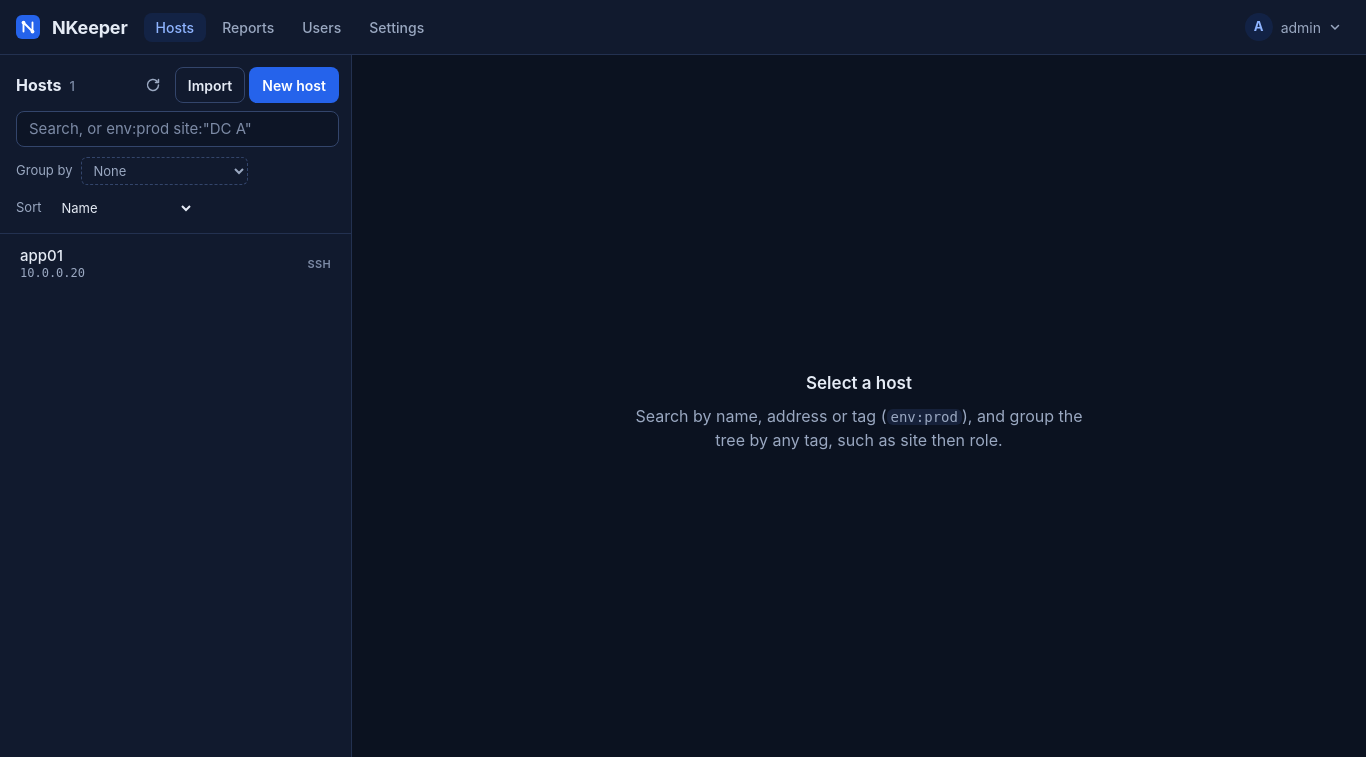
Test case: storage (iSCSI, multipath, DRBD) › discovers targets at a portal and says what it found
The width and height of the screenshot is (1366, 757).
Right-click the button "app01 10.0.0.20 SSH" at (41, 256), box [8, 242, 343, 286]
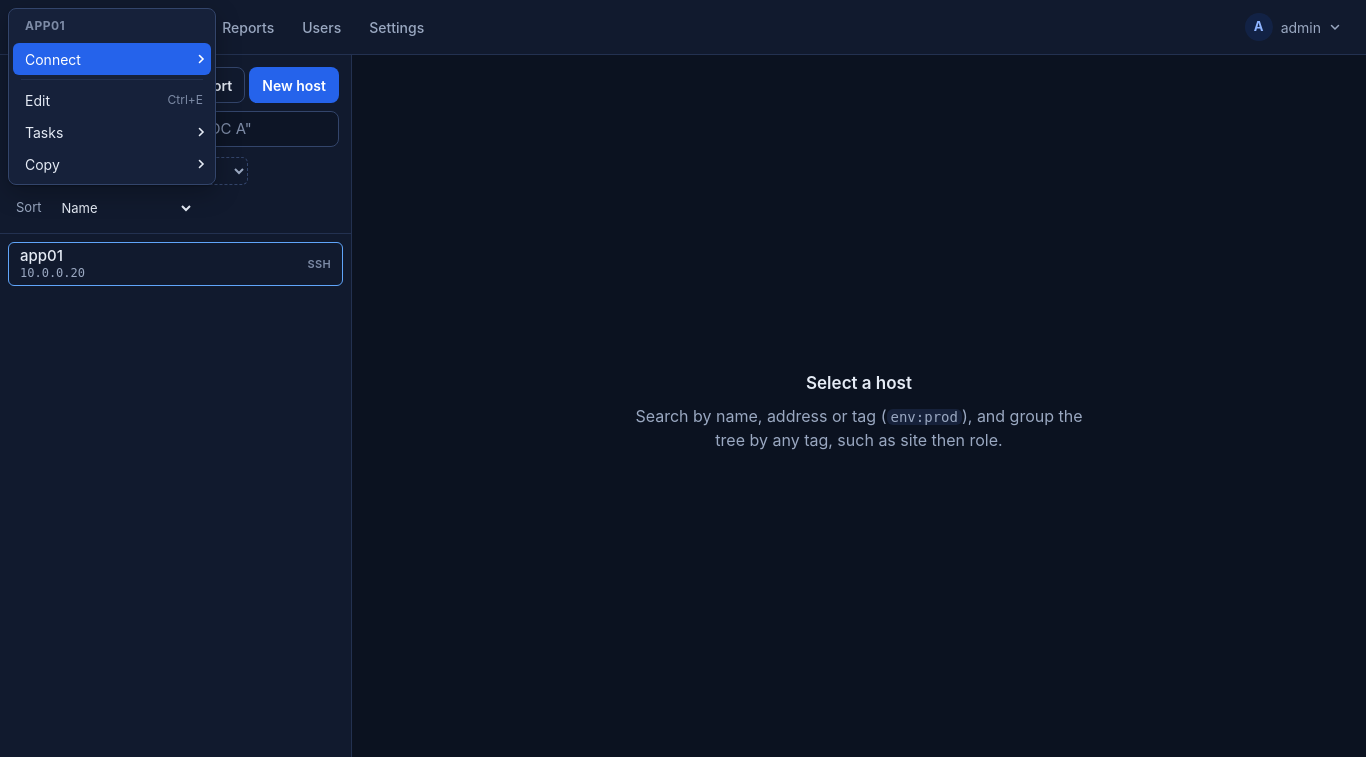
Hover over the menu item "Connect" at (112, 59), box [13, 43, 211, 75]
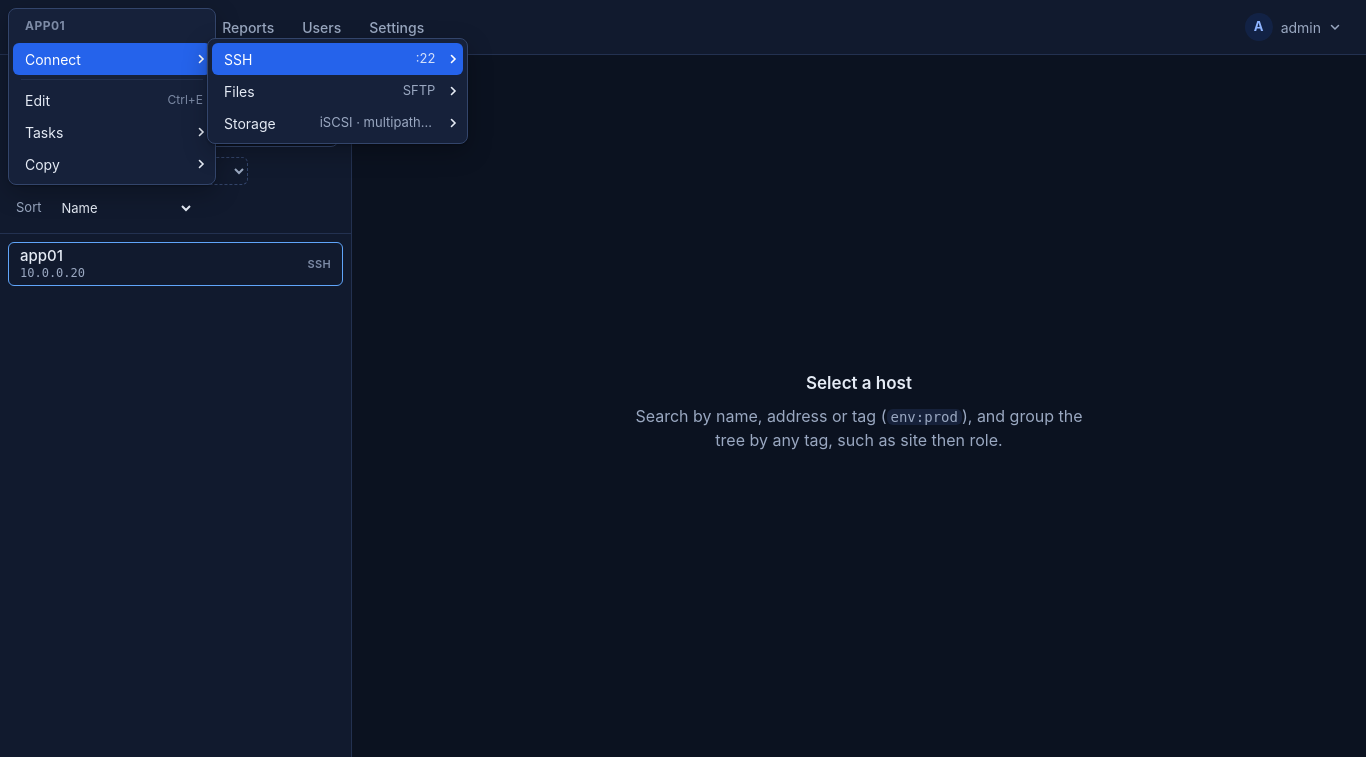
Hover over the menu item "Storage iSCSI · multipath · DRBD" at (338, 123), box [212, 107, 463, 139]
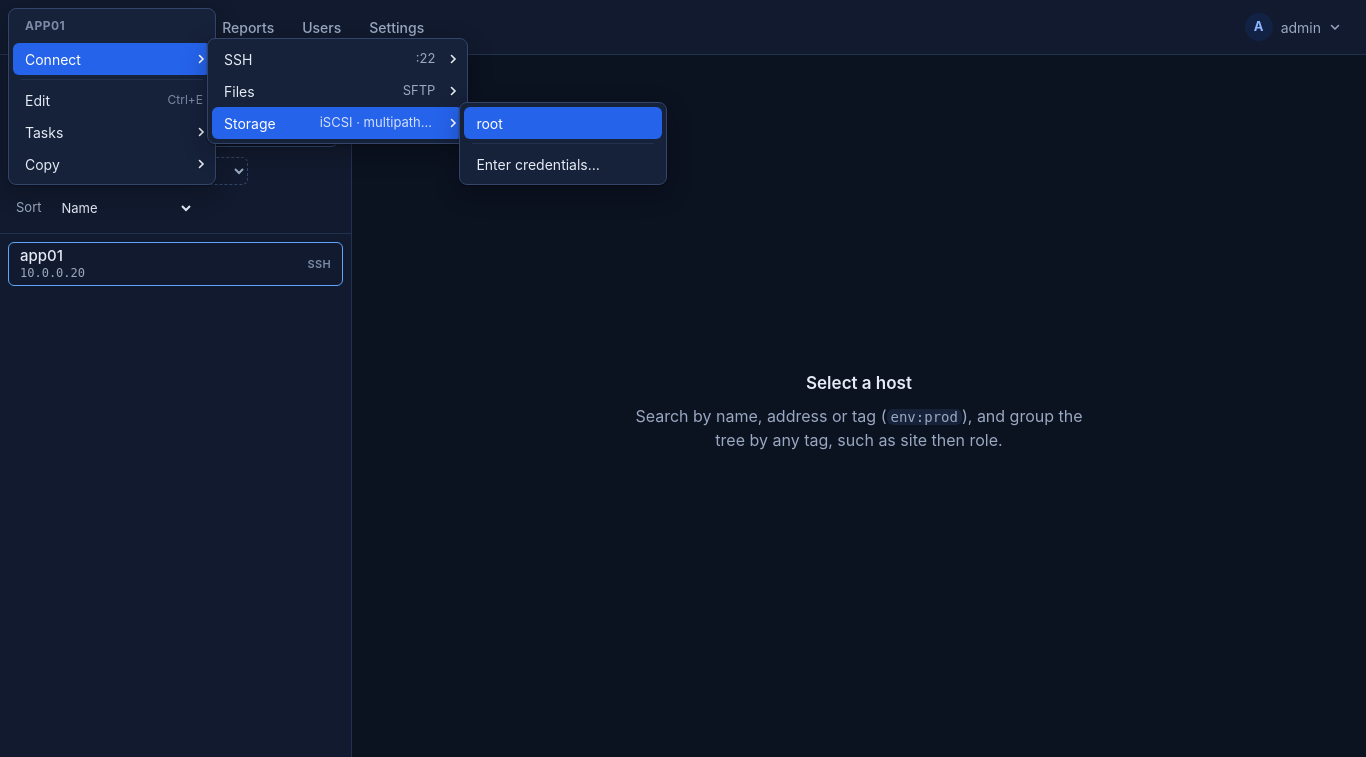
Click the menu item "root" at (563, 123), box [464, 107, 662, 139]
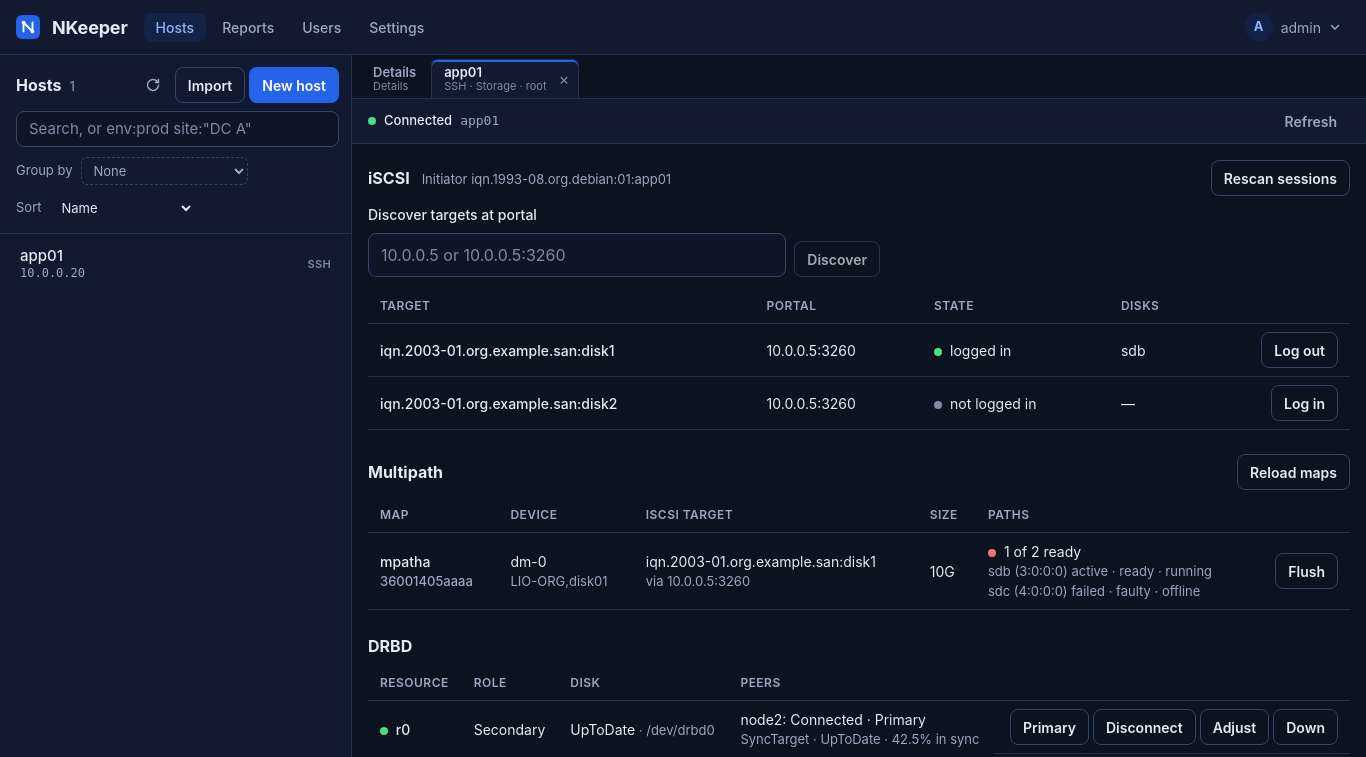
Type "10.0.0.9" into the field labelled "Discover targets at portal" at (577, 255), box [368, 233, 786, 277]
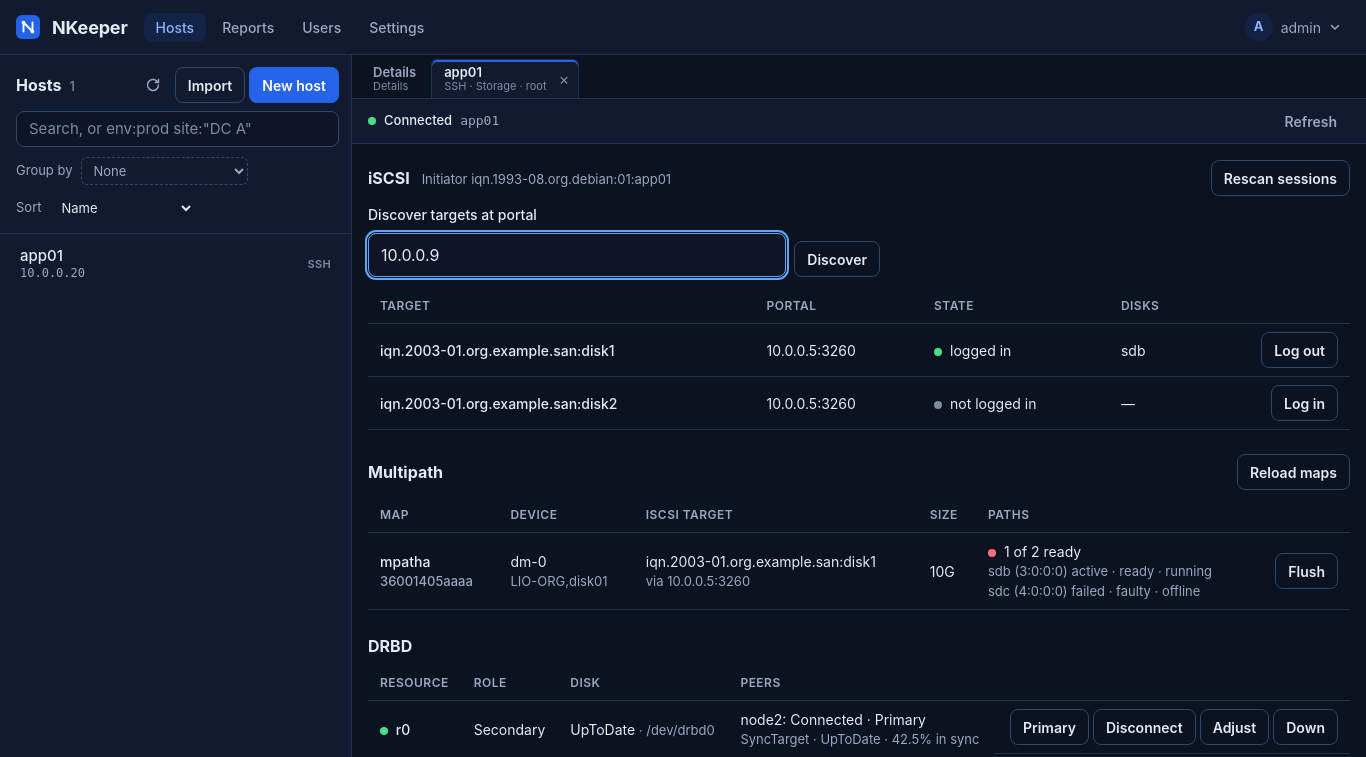
Click the button "Discover" at (837, 259), box [794, 241, 880, 277]
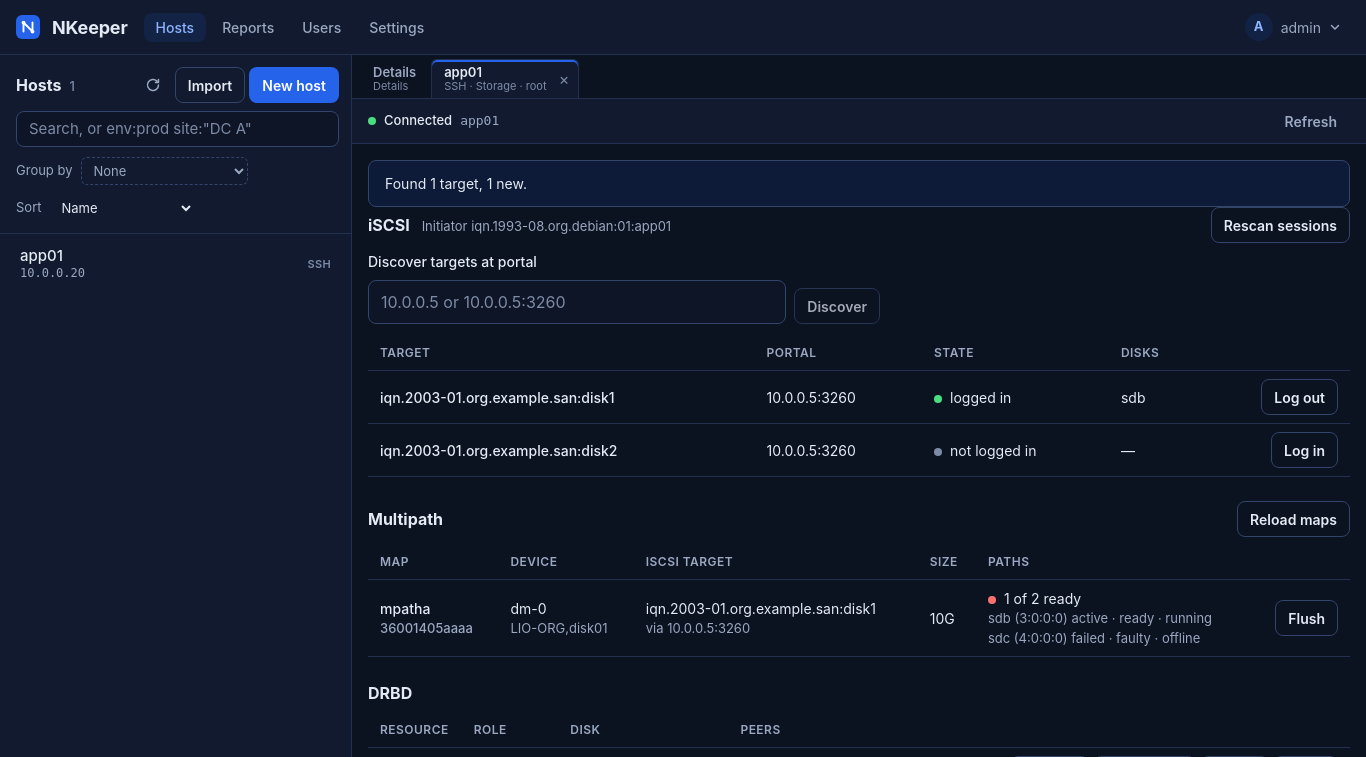
expect the text "Found 1 target, 1 new." is shown: met, box [368, 160, 1350, 207]
